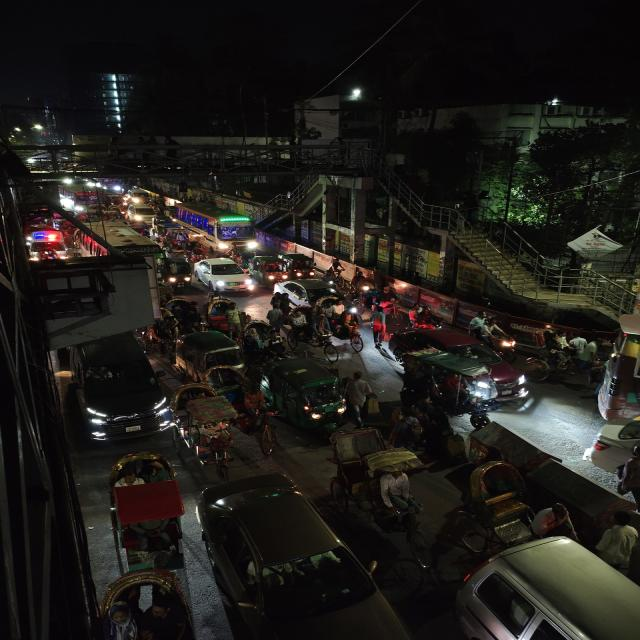bus: (172, 200, 256, 250)
car: (194, 480, 390, 640), (454, 534, 640, 639), (59, 329, 174, 444), (476, 333, 534, 413), (274, 278, 345, 313), (193, 257, 254, 295), (128, 204, 158, 223)
cng: (261, 358, 349, 433), (173, 331, 247, 381), (159, 256, 192, 290), (252, 252, 287, 284), (282, 252, 320, 280)
motorcycle: (478, 320, 525, 358), (366, 287, 404, 321), (405, 304, 444, 332), (349, 270, 377, 296)
pedestrian: (594, 510, 640, 575), (342, 370, 376, 417), (368, 310, 391, 350)
rickshaw: (96, 452, 191, 572), (447, 458, 556, 558), (328, 461, 433, 543), (399, 352, 495, 424), (175, 382, 246, 472), (337, 425, 434, 482), (282, 307, 343, 362), (332, 311, 369, 352), (206, 298, 248, 334), (167, 297, 204, 331), (161, 228, 203, 256)
